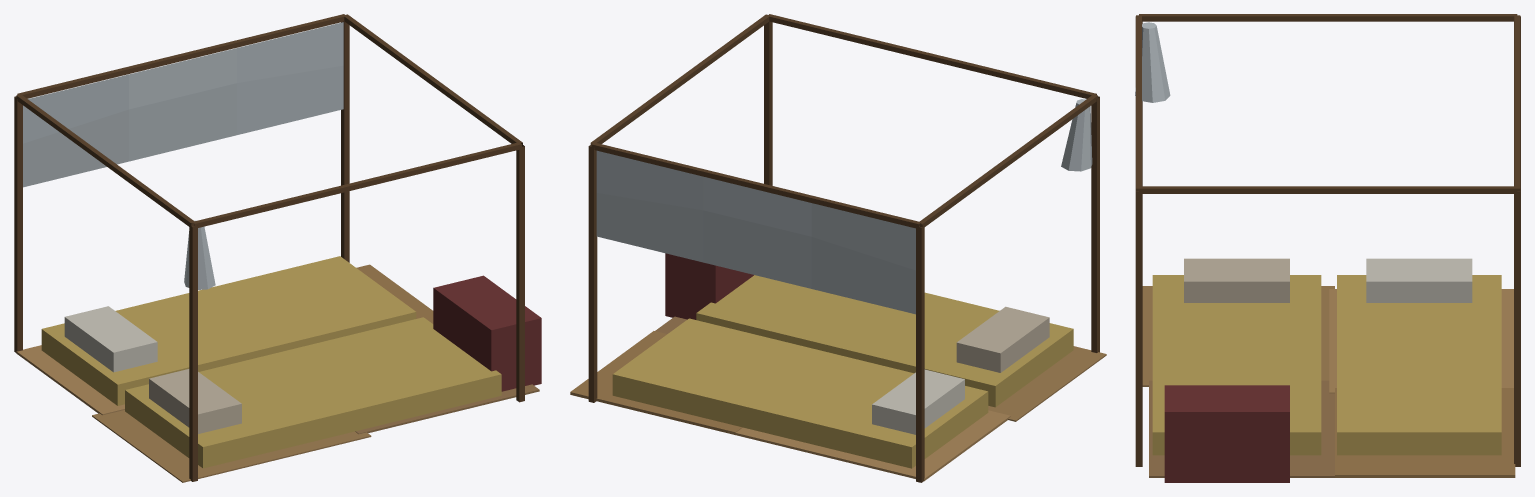
File: ns_camp_bed_lod1.glb
The picture shows the model from 3 angles, left to right: view 1: azimuth 30°, elevation 25°; view 2: azimuth 150°, elevation 25°; view 3: azimuth 270°, elevation 25°; orthographic projection. The views are drawn at different scales.
Visible parts, largest first — view 1: ns_camp_bed_lod1; view 2: ns_camp_bed_lod1; view 3: ns_camp_bed_lod1.
Boxes of the visible parts, x1=… form: ns_camp_bed_lod1: x1=14, y1=14, x2=541, y2=482; ns_camp_bed_lod1: x1=570, y1=14, x2=1106, y2=482; ns_camp_bed_lod1: x1=1135, y1=14, x2=1520, y2=482.
Bounding box in the file's own units: 2.36 × 1.57 × 1.97.
